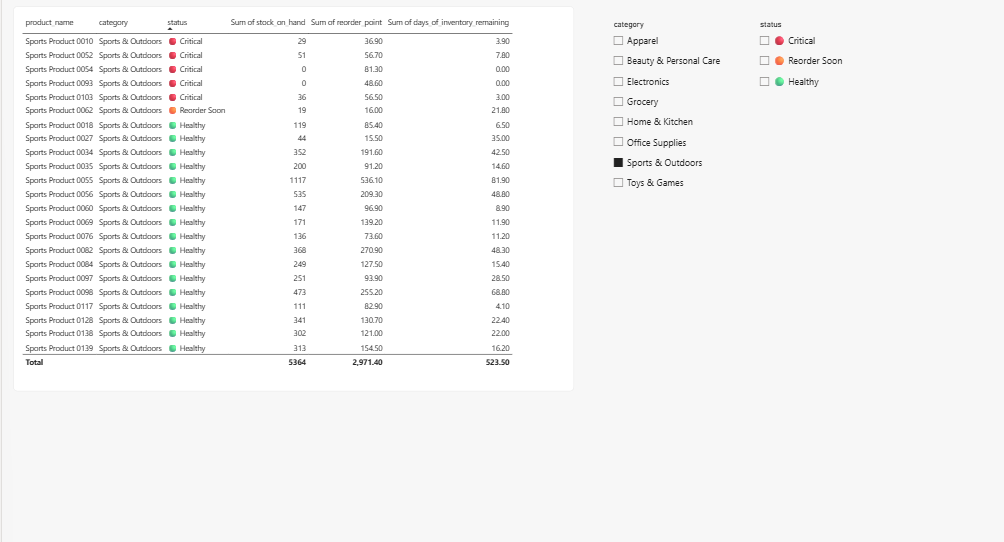

Layout of this report page (visuals, bound fields, positions):
{"tool":"powerbi","page":{"name":"Inventory Optimization","canvas":[1920,1080],"ordinal":2},"visuals":[{"type":"tableEx","fields":{"Values":["product_status.product_name","product_status.category","product_status.status","Sum(product_status.stock_on_hand)","Sum(product_status.reorder_point)","Sum(product_status.days_of_inventory_remaining)"]},"box":[20,12.5,1012.5,367.5],"z":0},{"type":"slicer","fields":{"Values":["product_status.category"]},"box":[50,526,254,368],"z":1},{"type":"slicer","fields":{"Values":["product_status.status"]},"box":[322,540,254,358],"z":2}]}

Visuals, with their boxes on the page's 1920x1080 design canvas (x1, y1, x2, y2). These are canvas units, not pixel positions in the 1004x542 screenshot, which may show the page scaled, cropped or inside an application window:
tableEx - product_status.product_name x product_status.category: BBox(20, 12, 1032, 380)
slicer - product_status.category: BBox(50, 526, 304, 894)
slicer - product_status.status: BBox(322, 540, 576, 898)
